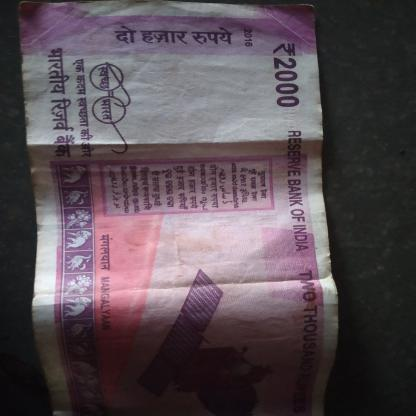New2000Back: (33, 1, 328, 416)
